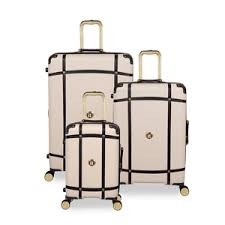suitcase: (40, 19, 134, 182), (111, 50, 192, 197), (55, 90, 124, 214)
